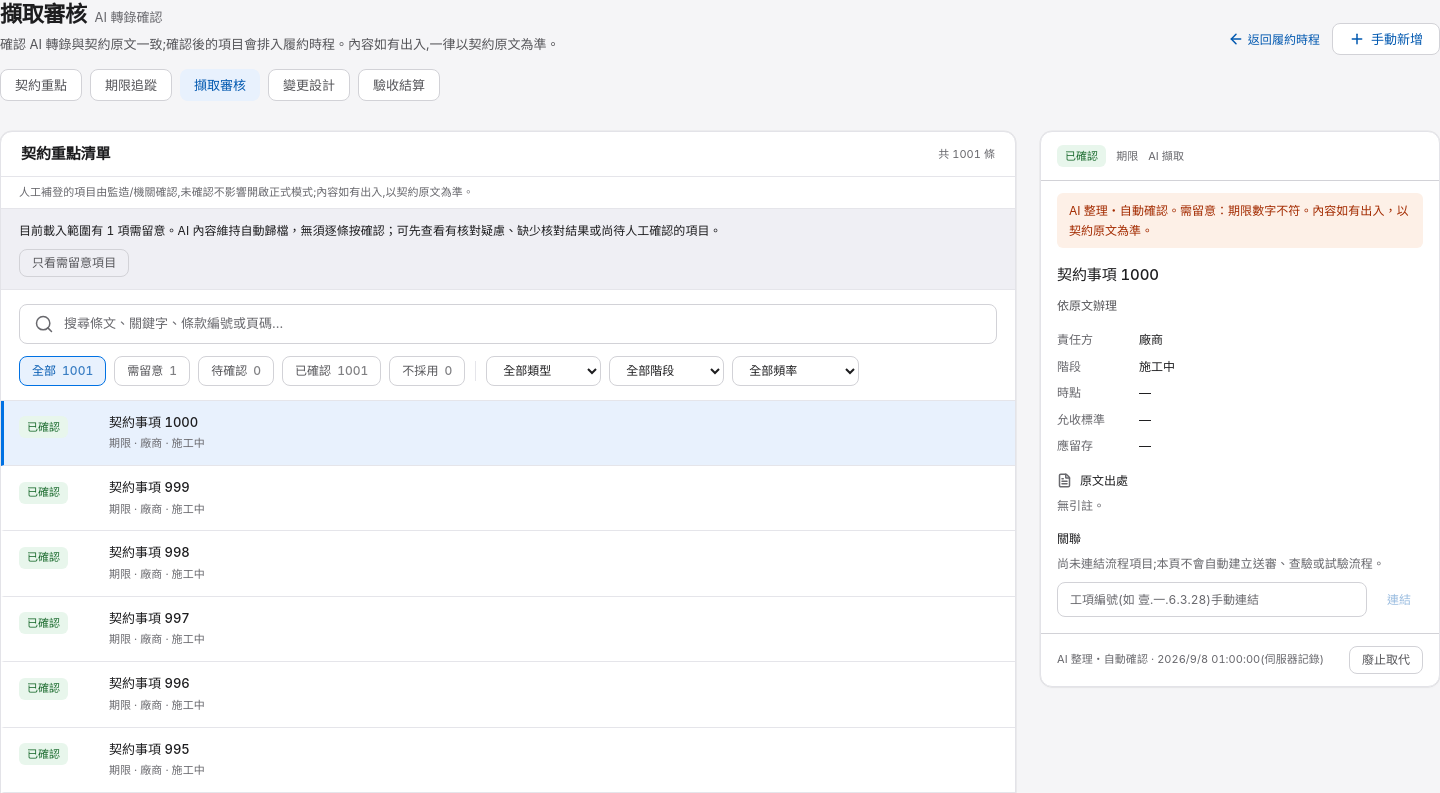
it: 契約核對的實際頁面流程 › 1001 筆中的最後一筆疑慮仍可一鍵找到，且不要求重看其餘已核對內容
Click the button "只看需留意項目" at [74, 263], box x1=19 y1=249 x2=129 y2=277
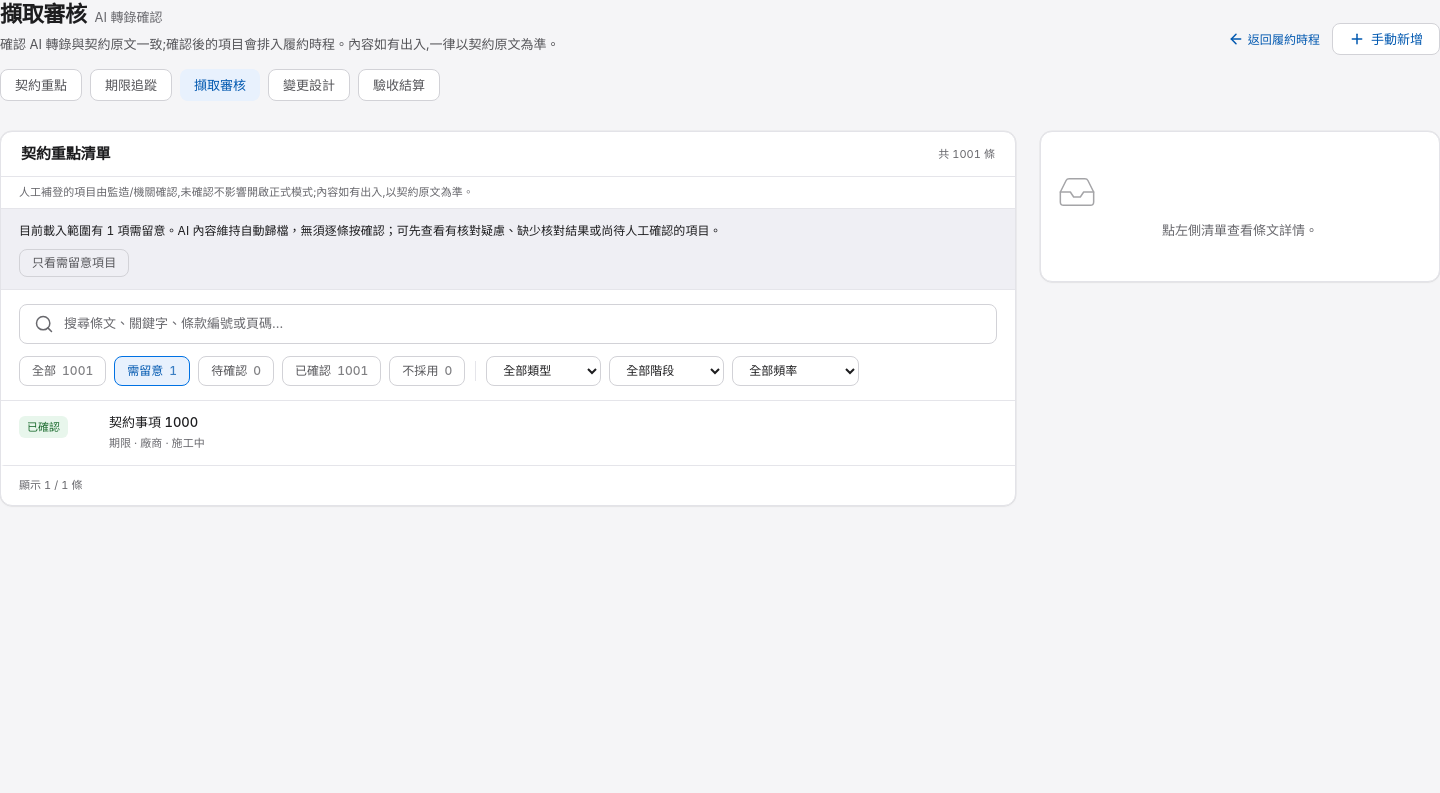
Check: the number of list items is 1
Click the list item "已確認 契約事項 1000 期限 · 廠商 · 施工中" at [44, 427], box x1=1 y1=401 x2=1015 y2=466
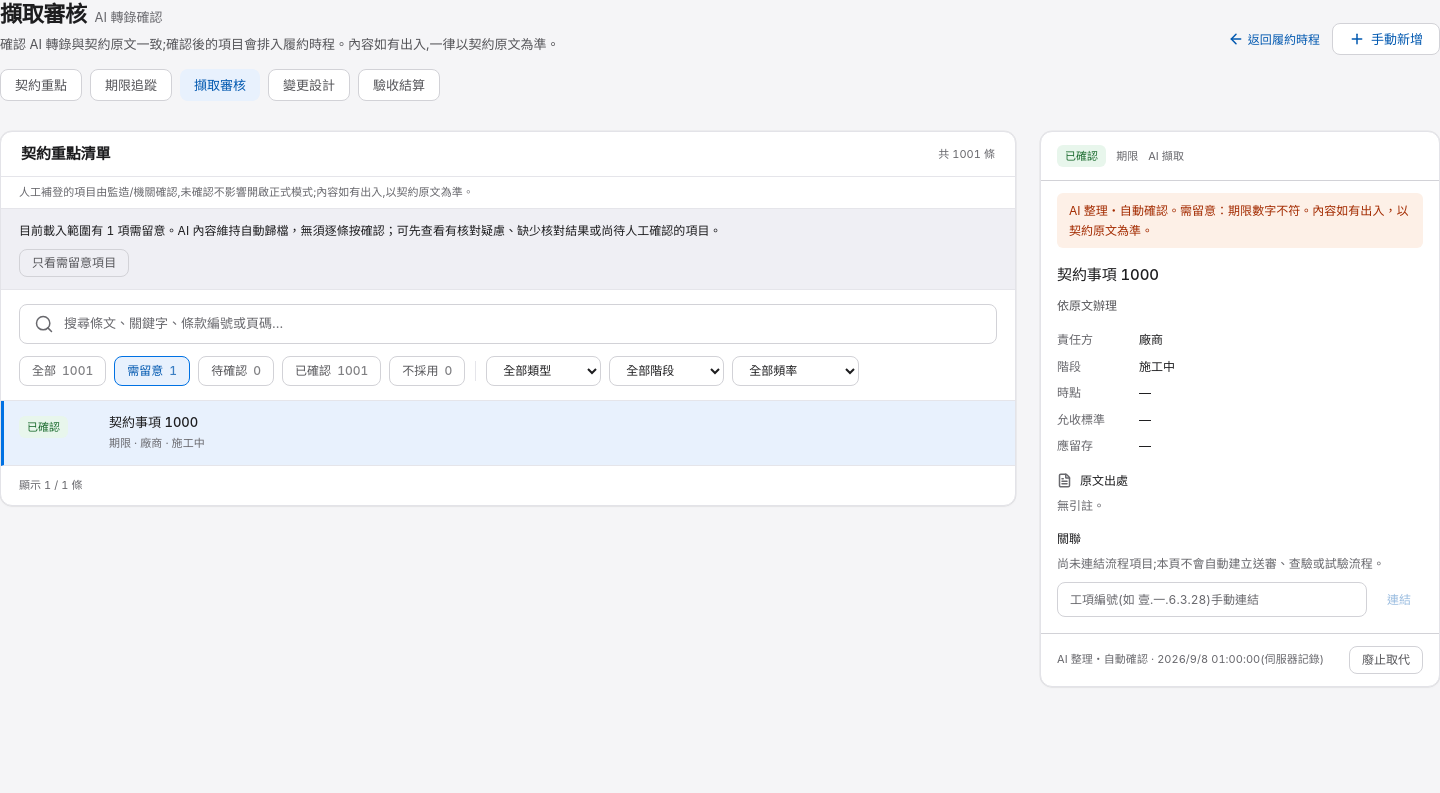
Check: the text "期限數字不符" is shown, box x1=1069 y1=203 x2=1408 y2=238
